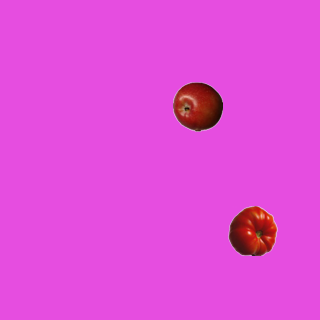Apple Braeburn: (172, 81, 222, 131)
Tomato 3: (227, 205, 277, 255)
